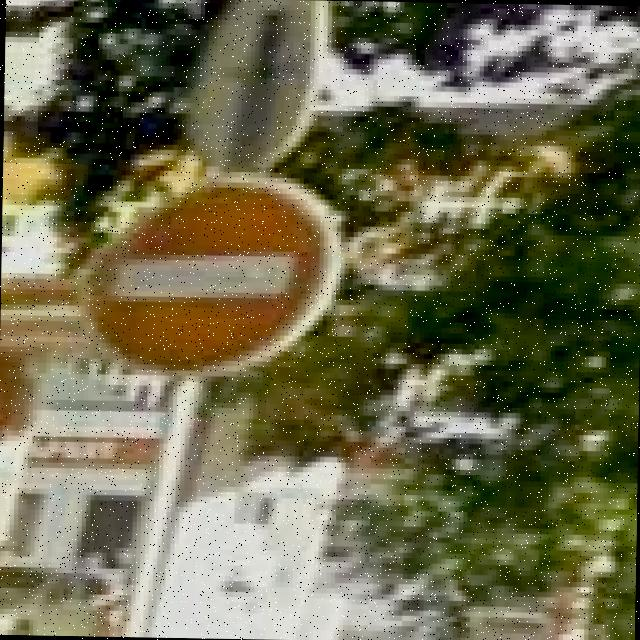Zakaz wjazdu: (75, 168, 346, 384)
